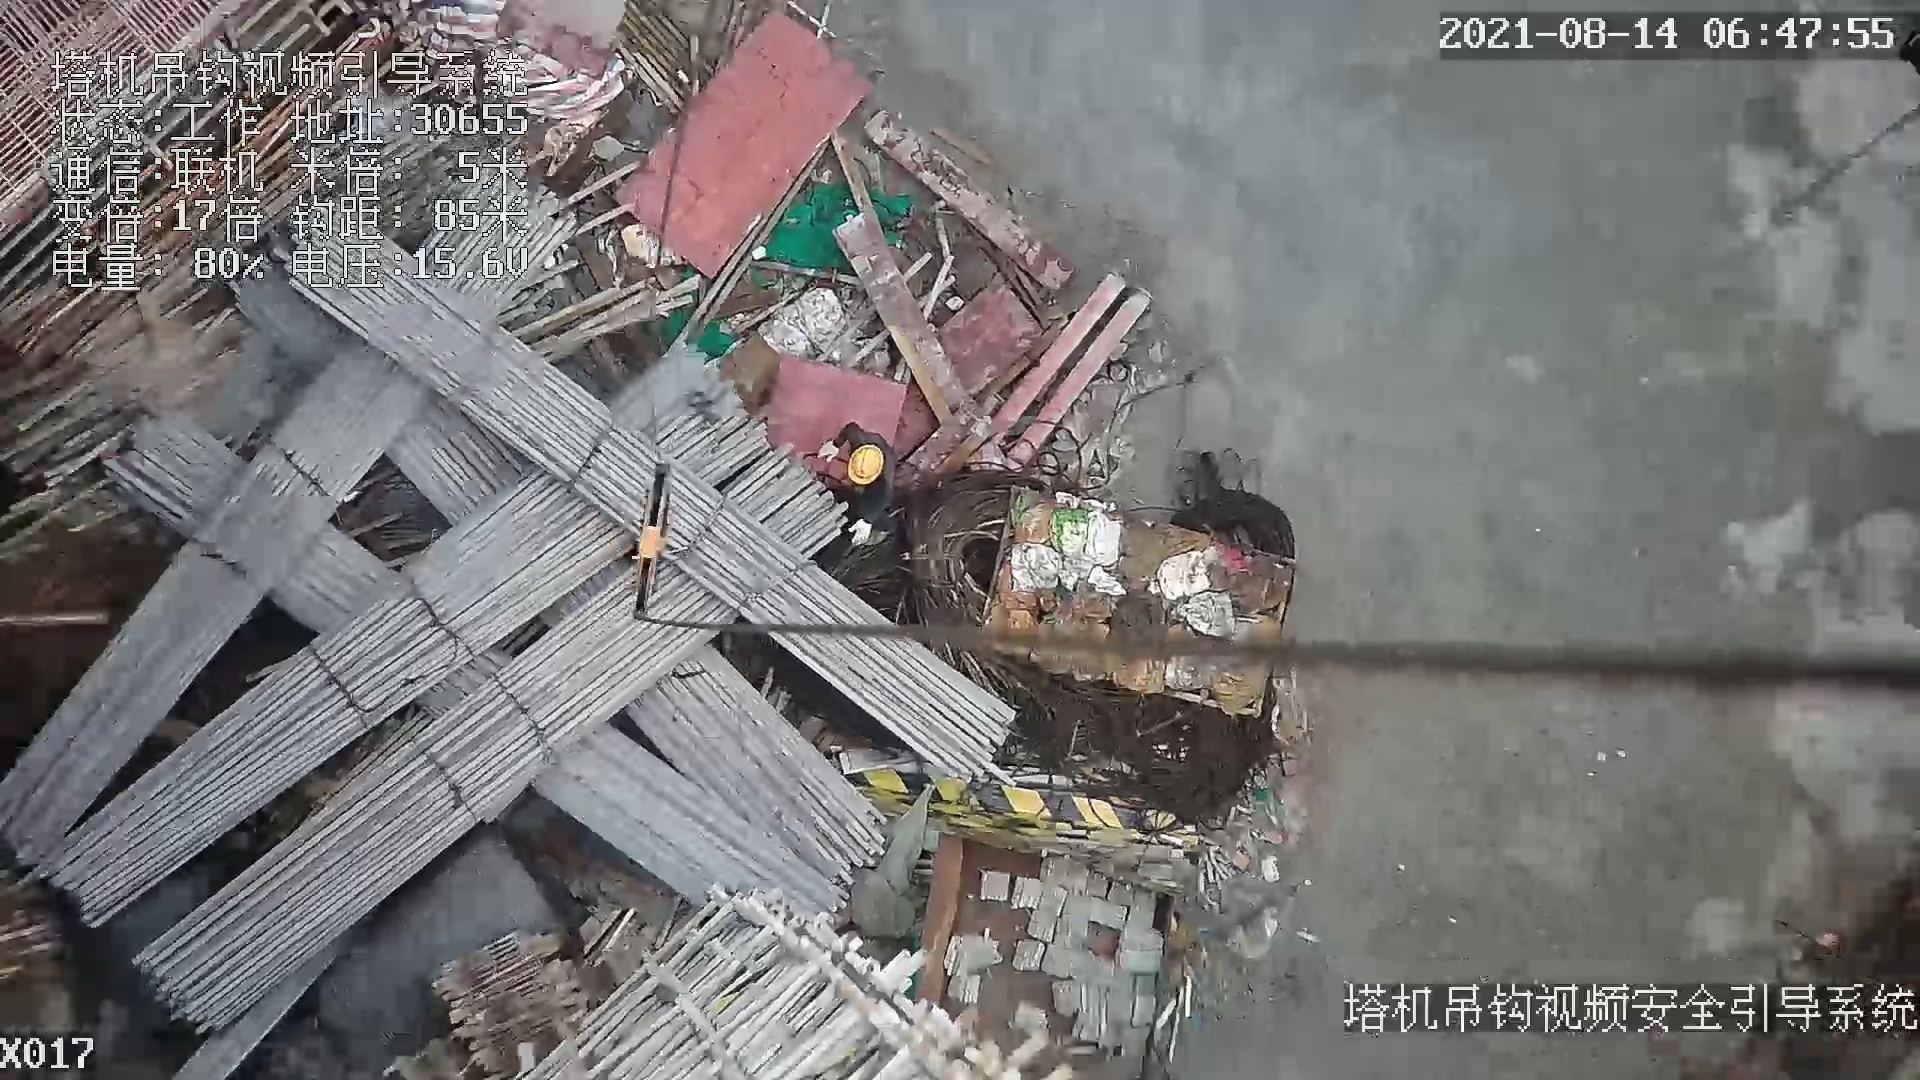board: (619, 8, 869, 276)
helmet: (848, 446, 882, 486)
hook: (619, 464, 677, 628)
person: (814, 410, 899, 550)
